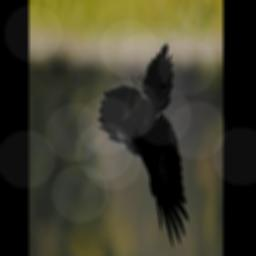Crow: (96, 43, 188, 248)
